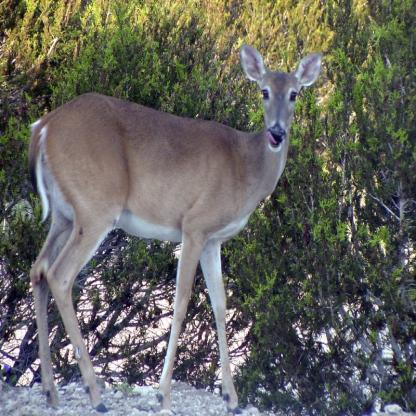Deer: (25, 42, 323, 414)
